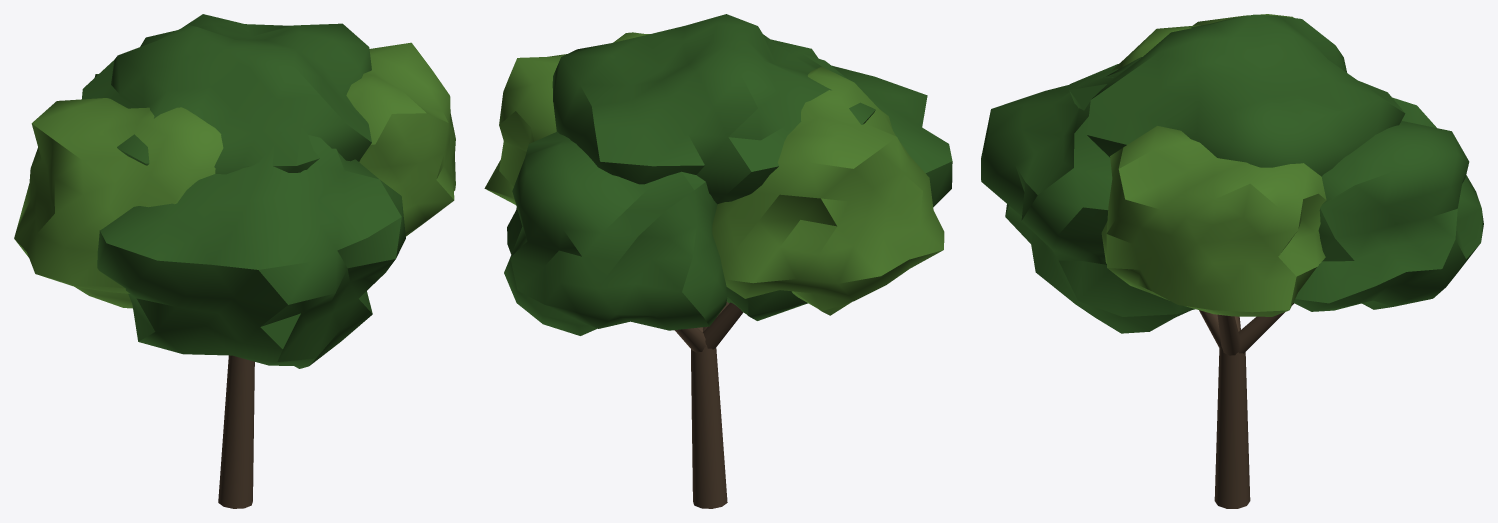
File: Tree_Shade_1.fbx
The picture shows the model from 3 angles, left to right: view 1: azimuth 30°, elevation 25°; view 2: azimuth 150°, elevation 25°; view 3: azimuth 270°, elevation 25°; orthographic projection.
Visible parts, largest first — view 1: Tree_Shade_1_Mesh; view 2: Tree_Shade_1_Mesh; view 3: Tree_Shade_1_Mesh.
Part boxes in pixels (x1=…): Tree_Shade_1_Mesh: x1=14, y1=14, x2=455, y2=508; Tree_Shade_1_Mesh: x1=484, y1=14, x2=952, y2=508; Tree_Shade_1_Mesh: x1=981, y1=14, x2=1483, y2=508.
Bounding box in the file's own units: 5.98 × 6.47 × 6.22.
